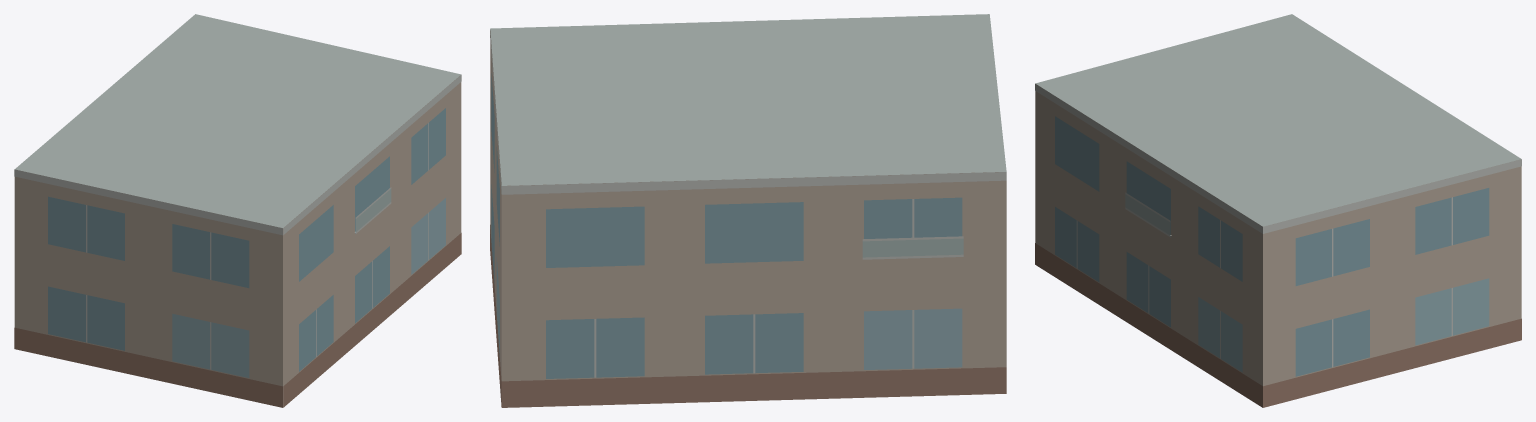
The model's file is survey-upis-32861338.glb.
3 renders of one model, left to right at view 1: azimuth 30°, elevation 25°; view 2: azimuth 150°, elevation 25°; view 3: azimuth 270°, elevation 25°, orthographic. The views are drawn at different scales.
Visible parts, largest first — view 1: survey-upis-32861338.tmp; view 2: survey-upis-32861338.tmp; view 3: survey-upis-32861338.tmp.
Part boxes in pixels (x1=…): survey-upis-32861338.tmp: x1=14, y1=14, x2=461, y2=407; survey-upis-32861338.tmp: x1=490, y1=14, x2=1006, y2=407; survey-upis-32861338.tmp: x1=1035, y1=14, x2=1521, y2=407.
Size of the model in its own units: 15.38 by 6.1 by 14.86.
